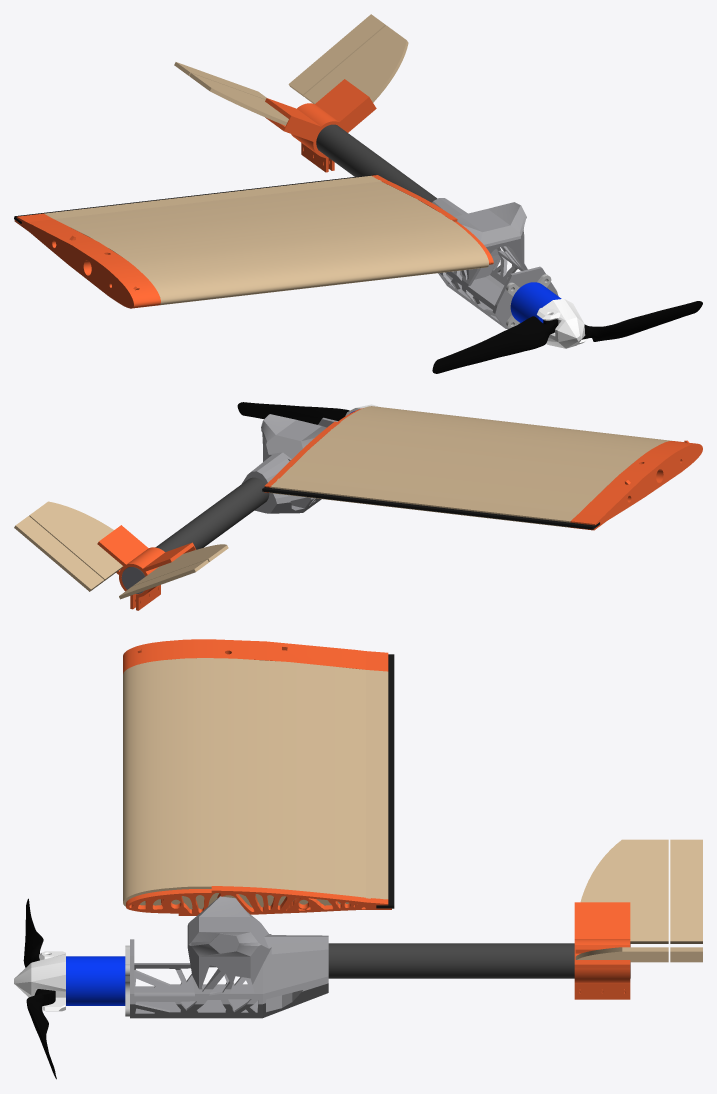
The model's file is mk4Labeled3.glb.
3 views of the same model, one above another, from view 1: azimuth 30°, elevation 25°; view 2: azimuth 150°, elevation 25°; view 3: azimuth 270°, elevation 25° (orthographic). The views are drawn at different scales.
Visible parts, largest first — view 1: Mesh_0, Mesh_1, fuselage, propellers, Mesh_3, cap, motor; view 2: Mesh_0, Mesh_1, fuselage, Mesh_3, Mesh_7, propellers, tube; view 3: Mesh_0, fuselage, Mesh_1, Mesh_3, motor, cap, Mesh_7, propellers.
Boxes of the visible parts, left/top/right/bottom form: Mesh_0: left=44, top=14, right=488, bottom=305; Mesh_1: left=14, top=79, right=493, bottom=308; fuselage: left=432, top=198, right=558, bottom=328; propellers: left=432, top=301, right=702, bottom=373; Mesh_3: left=316, top=124, right=437, bottom=202; cap: left=537, top=298, right=587, bottom=348; motor: left=510, top=282, right=561, bottom=322; Mesh_0: left=14, top=406, right=671, bottom=599; Mesh_1: left=97, top=408, right=702, bottom=610; fuselage: left=242, top=414, right=337, bottom=513; Mesh_3: left=128, top=477, right=269, bottom=576; Mesh_7: left=262, top=487, right=599, bottom=529; propellers: left=237, top=402, right=349, bottom=424; tube: left=121, top=567, right=144, bottom=593; Mesh_0: left=123, top=658, right=702, bottom=962; fuselage: left=130, top=896, right=328, bottom=1018; Mesh_1: left=123, top=639, right=630, bottom=999; Mesh_3: left=328, top=943, right=630, bottom=978; motor: left=66, top=956, right=125, bottom=1005; cap: left=14, top=951, right=65, bottom=1011; Mesh_7: left=376, top=654, right=394, bottom=908; propellers: left=23, top=898, right=56, bottom=1079.
Bounding box in the file's own units: 3.08 × 0.7295 × 3.01.
